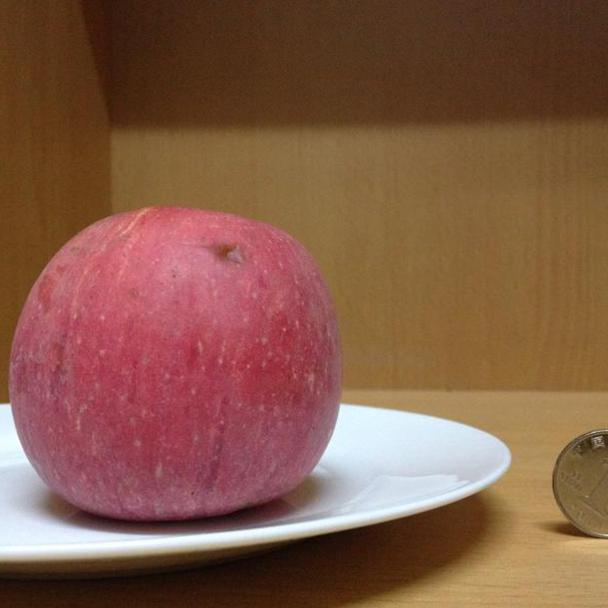apple: (8, 206, 344, 522)
